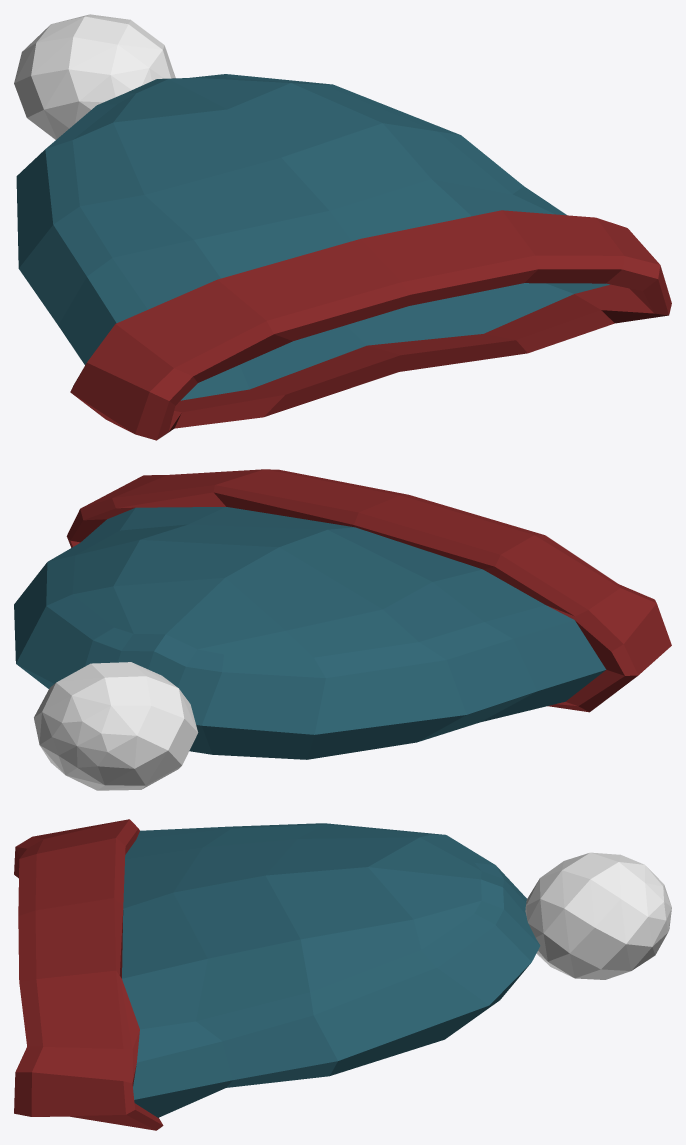
File: Beanie.fbx
3 views of the same model, one above another, from view 1: azimuth 30°, elevation 25°; view 2: azimuth 150°, elevation 25°; view 3: azimuth 270°, elevation 25° (orthographic). The views are drawn at different scales.
Parts seen in each view (by area): view 1: Beanie; view 2: Beanie; view 3: Beanie.
Part boxes in pixels (x1,y1,x2,y2): Beanie: [14, 14, 671, 440]; Beanie: [14, 469, 671, 790]; Beanie: [14, 819, 671, 1130].
Bounding box in the file's own units: 4.42 × 1.28 × 4.64.
